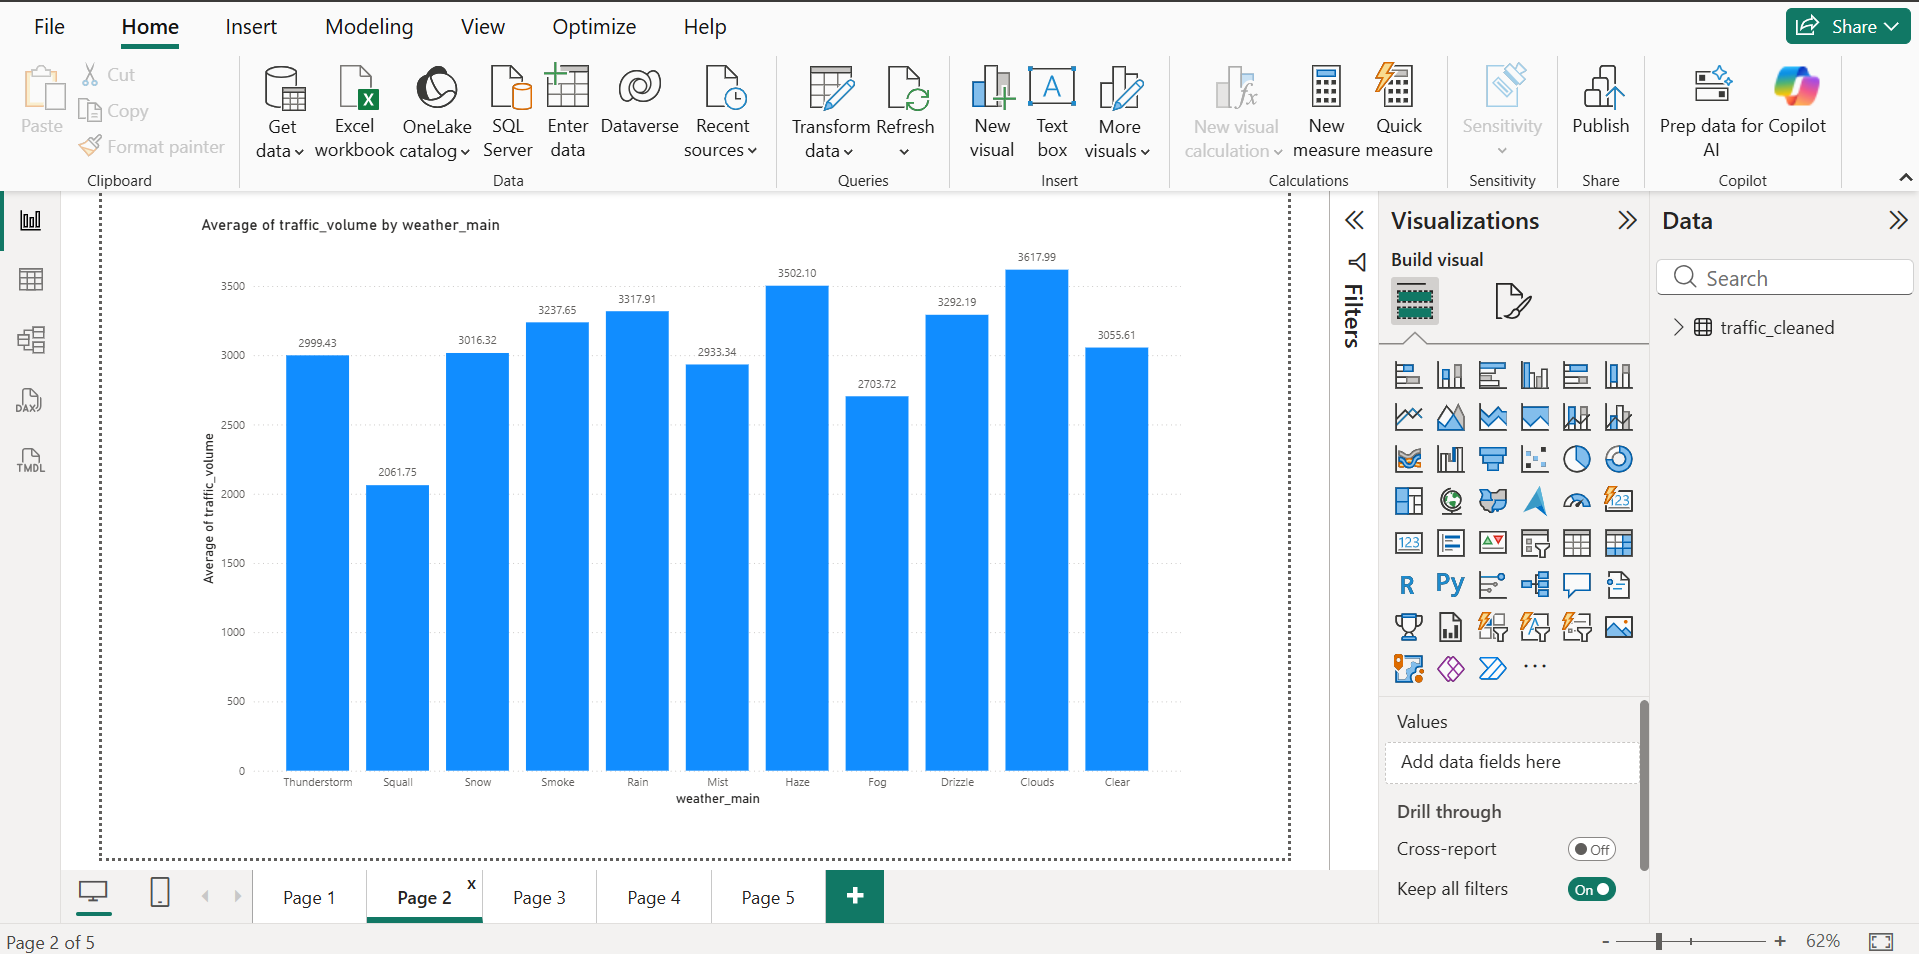

Layout of this report page (visuals, bound fields, positions):
{"tool":"powerbi","page":{"name":"Page 2","canvas":[1280,720],"ordinal":1},"visuals":[{"type":"clusteredColumnChart","fields":{"Y":["Avg(traffic_cleaned.traffic_volume)"],"Category":["traffic_cleaned.weather_main"]},"box":[102,26.5,1067.7,642.5],"z":0}]}

Visuals, with their boxes on the page's 1280x720 design canvas (x1, y1, x2, y2). These are canvas units, not pixel positions in the 1919x954 screenshot, which may show the page scaled, cropped or inside an application window:
clusteredColumnChart - Avg(traffic_cleaned.traffic_volume) x traffic_cleaned.weather_main: Rect(102, 26, 1170, 669)
